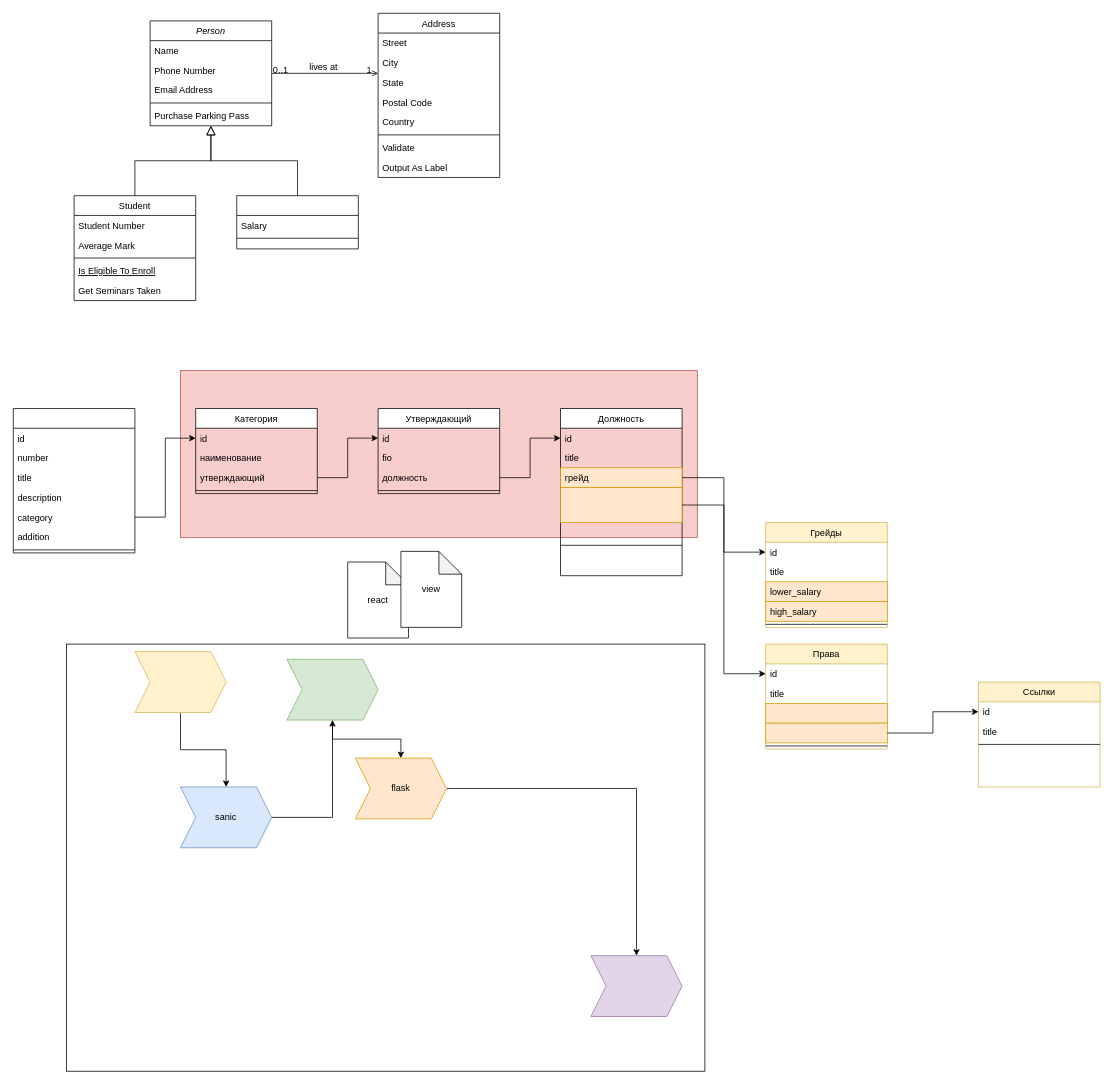
The diagram is 1113 pixels wide and 1085 high, and some of its shapes have lost their labels. Each missing label, with the box of its shape:
django: (134, 651, 226, 712)
Document: (13, 408, 135, 553)
fastapi: (286, 659, 378, 720)
gin: (590, 955, 682, 1016)
Professor: (236, 195, 358, 249)
Действия: (765, 703, 887, 723)
доступ информационной безопасности: (560, 487, 682, 522)
ссылка: (765, 722, 887, 743)
